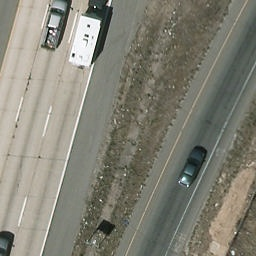camping car: (68, 11, 102, 69)
car: (176, 146, 208, 189)
pickup: (41, 1, 72, 51)
